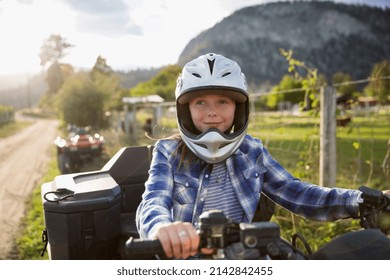helmets: (170, 50, 266, 170)
